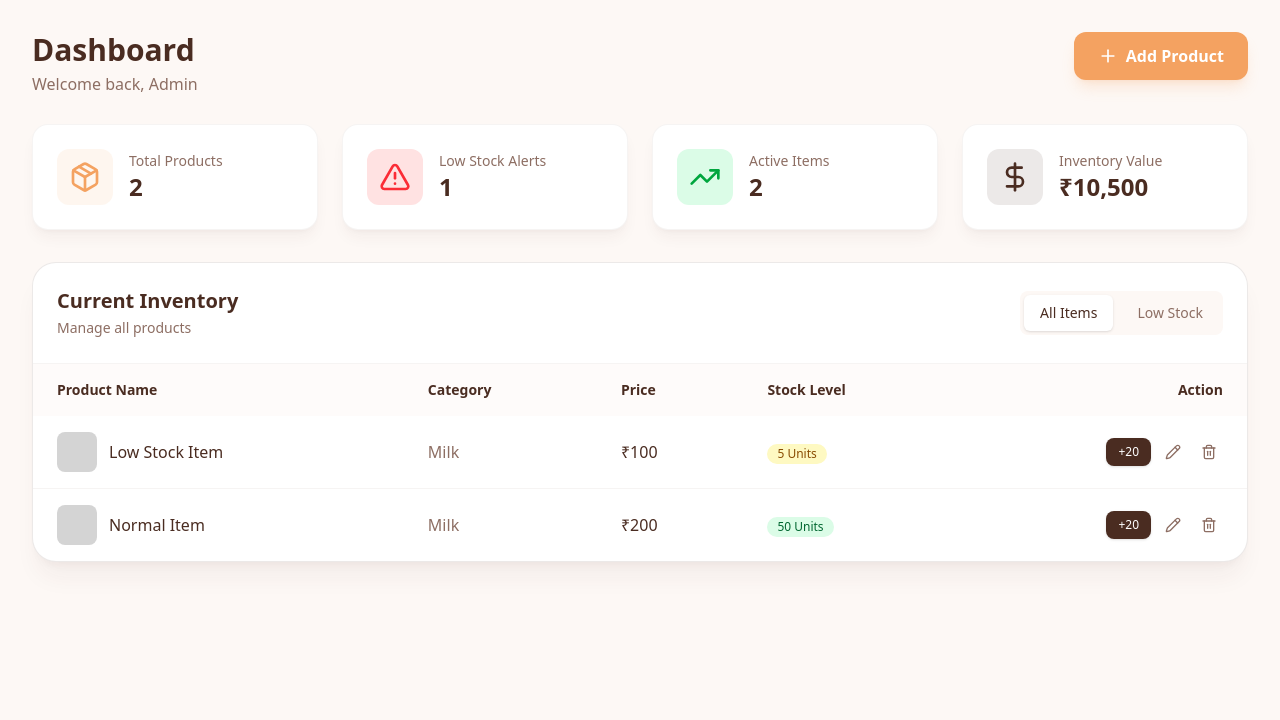
Test: Dashboard Component › filters low stock items
Expected: the text "Normal Item" is shown, x1=109 y1=513 x2=205 y2=537
Click Low Stock filter
Click the button "Low Stock" at (1170, 313), box x1=1121 y1=295 x2=1219 y2=331
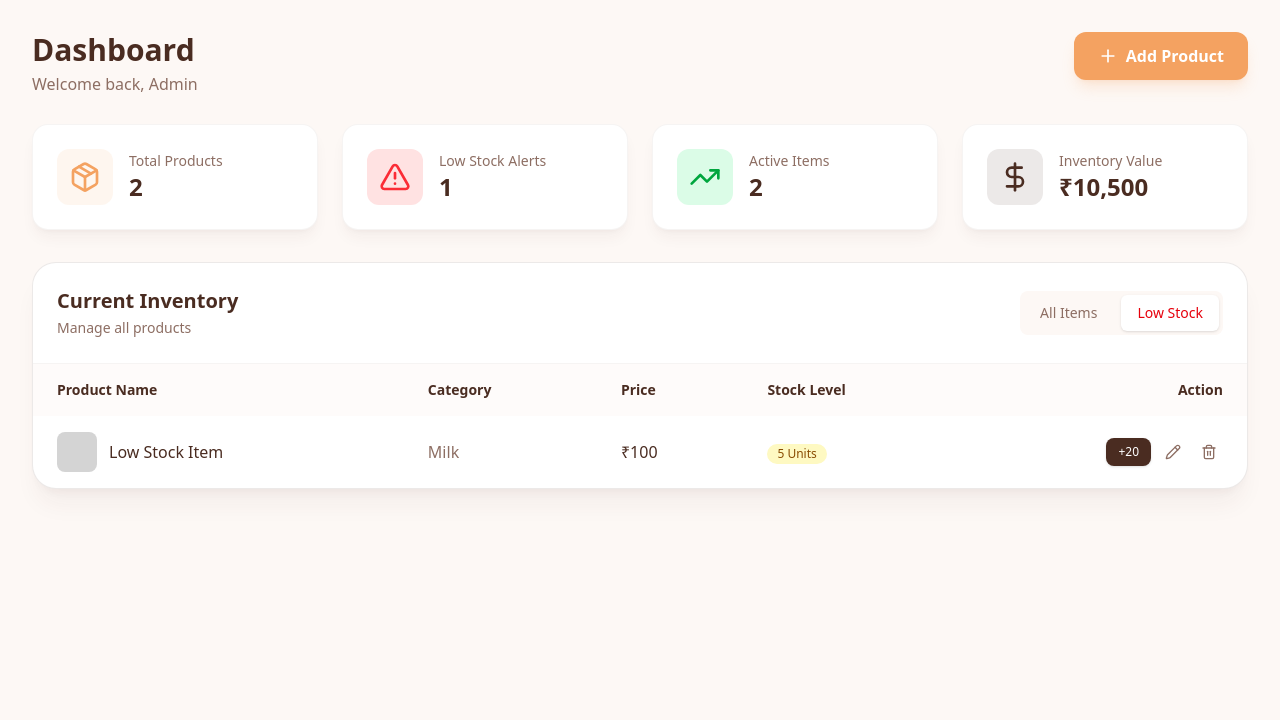
Expected: the text "Low Stock Item" is shown, x1=109 y1=440 x2=223 y2=464
Expected: the text "Normal Item" is gone
Switch back to All Items
Click the button "All Items" at (1069, 313), box x1=1024 y1=295 x2=1113 y2=331
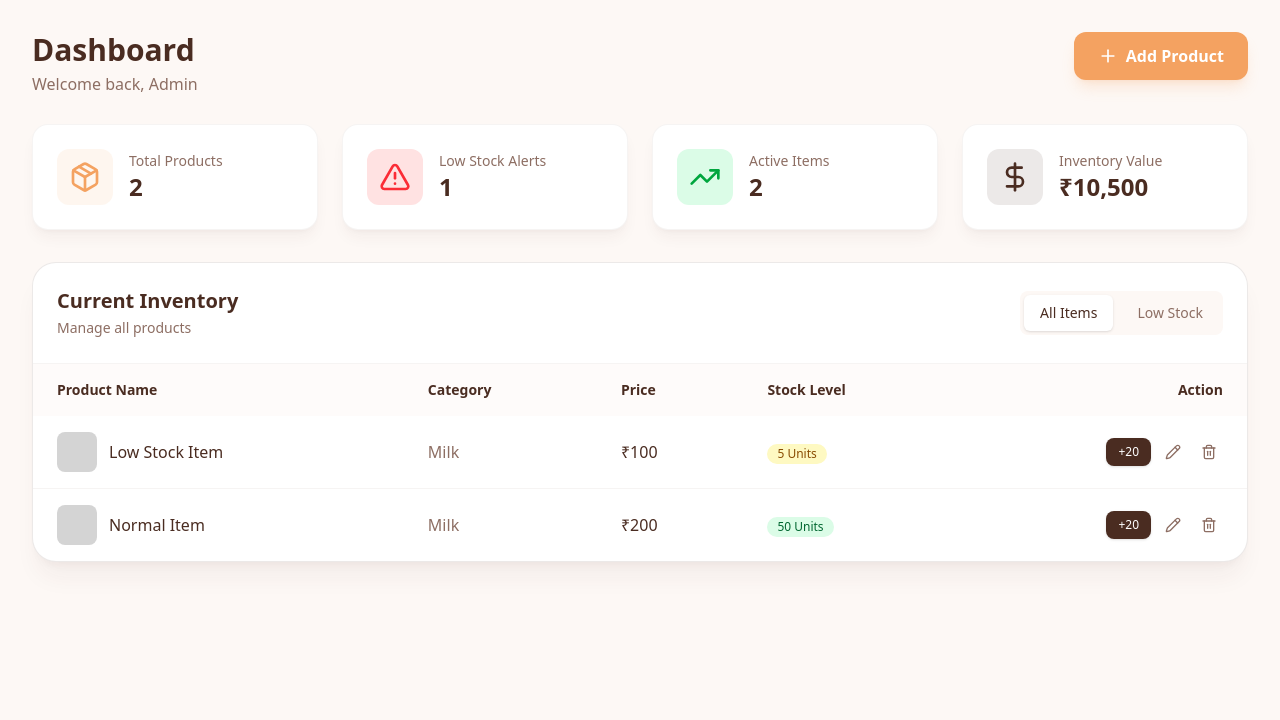
Expected: the text "Normal Item" is shown, x1=109 y1=513 x2=205 y2=537
